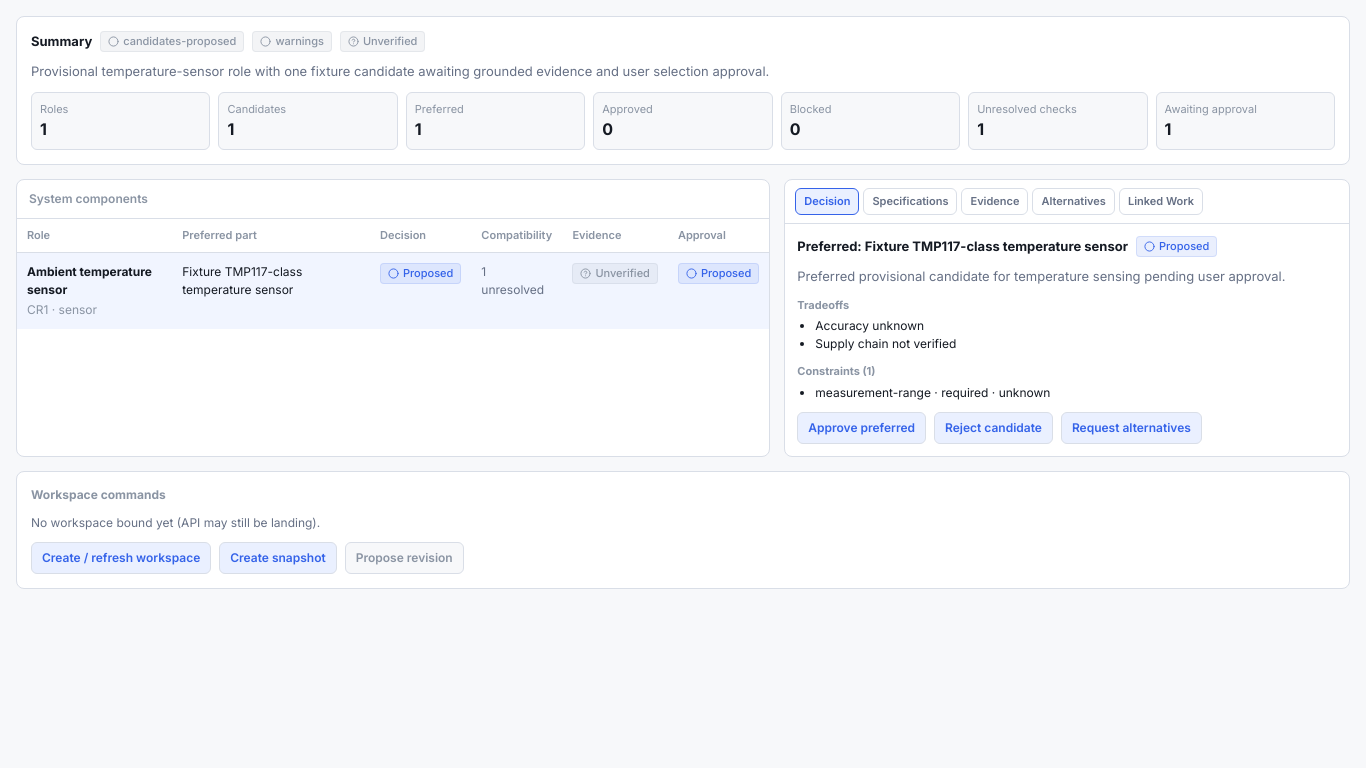
ComponentPlanWorkspace › switches inspector tabs for specs evidence and linked work
Click the tab with test id "component-plan-inspector-tab-specifications" at (910, 202), box [863,188,958,215]
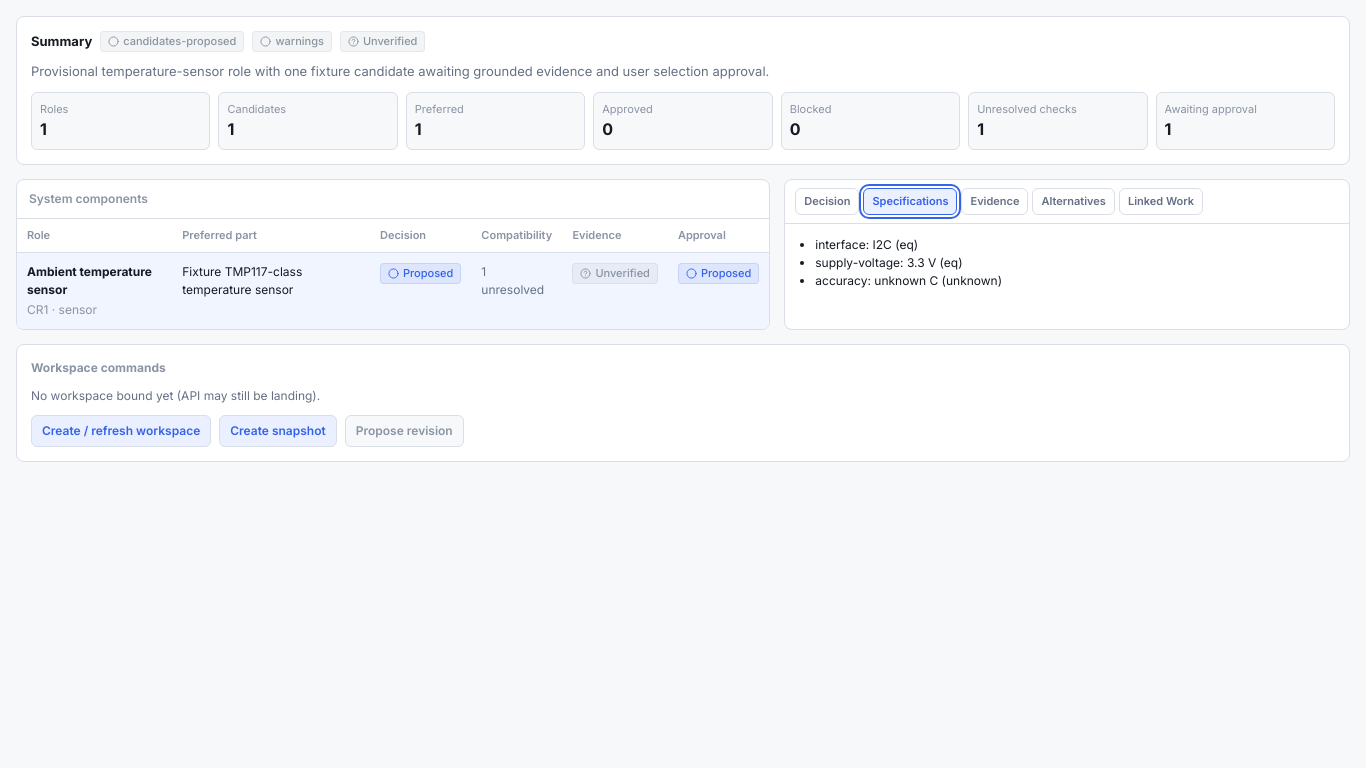
Now the element with test id "component-plan-specs" is shown, box [815,237,1002,288]
Click the tab with test id "component-plan-inspector-tab-evidence" at (995, 202), box [962,188,1028,215]
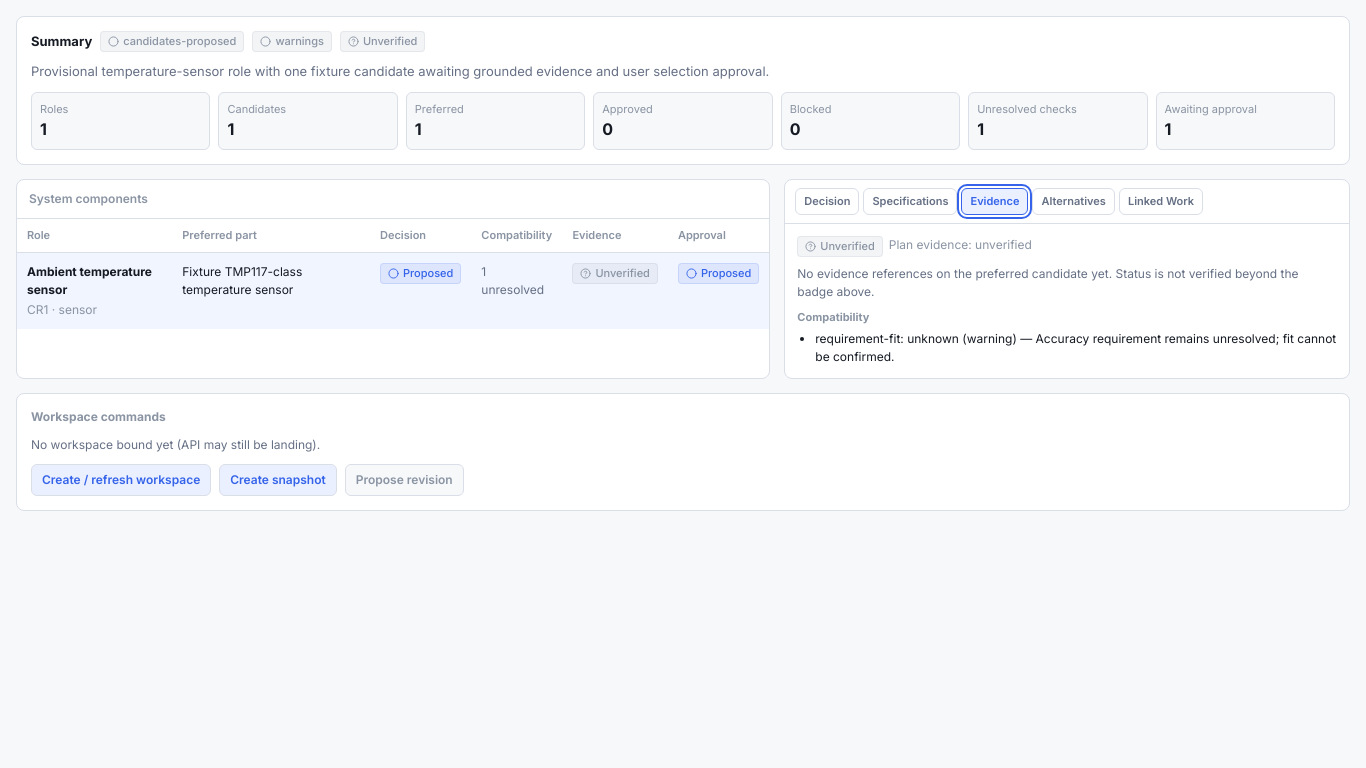
Now the element with test id "component-plan-evidence" is shown, box [797,236,1337,366]
Click the tab with test id "component-plan-inspector-tab-linked-work" at (1161, 202), box [1119,188,1203,215]
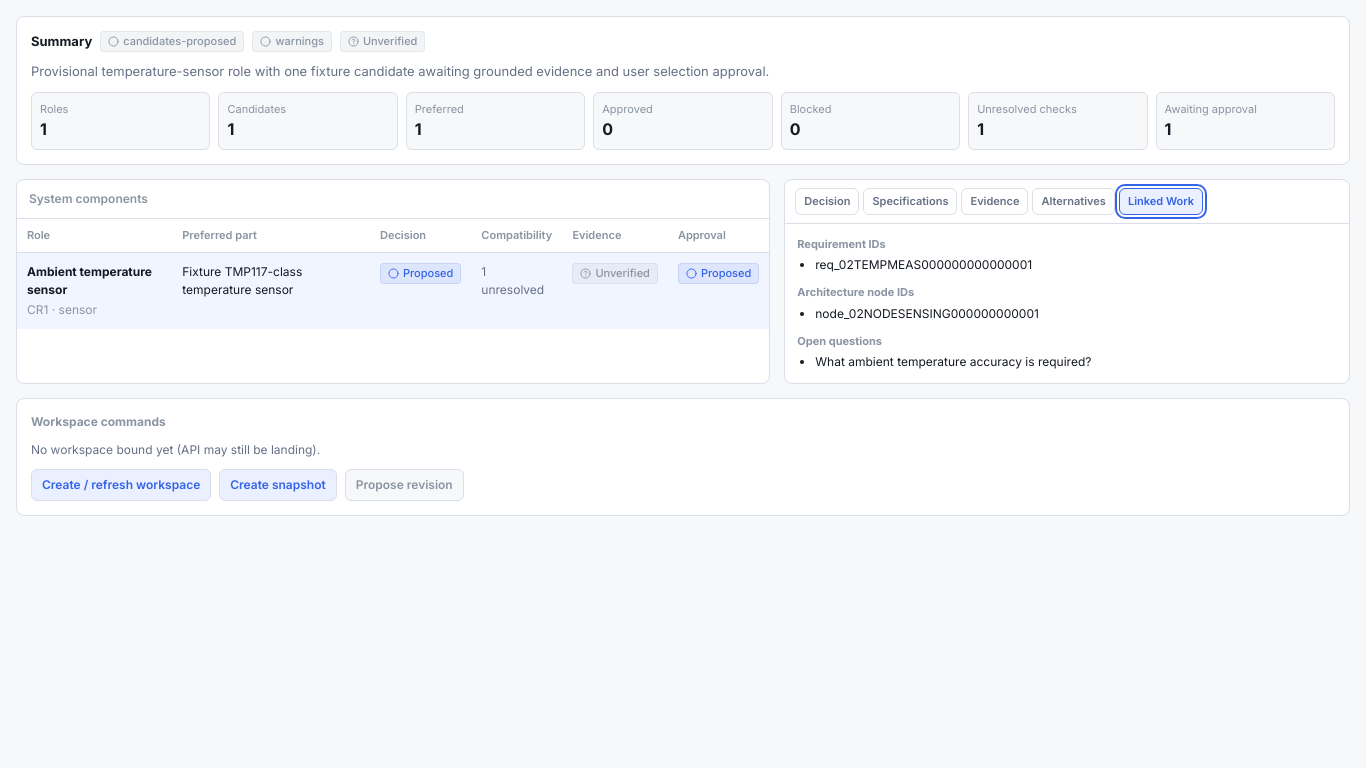
Now the element with test id "component-plan-linked-work" is shown, box [797,237,1091,369]
